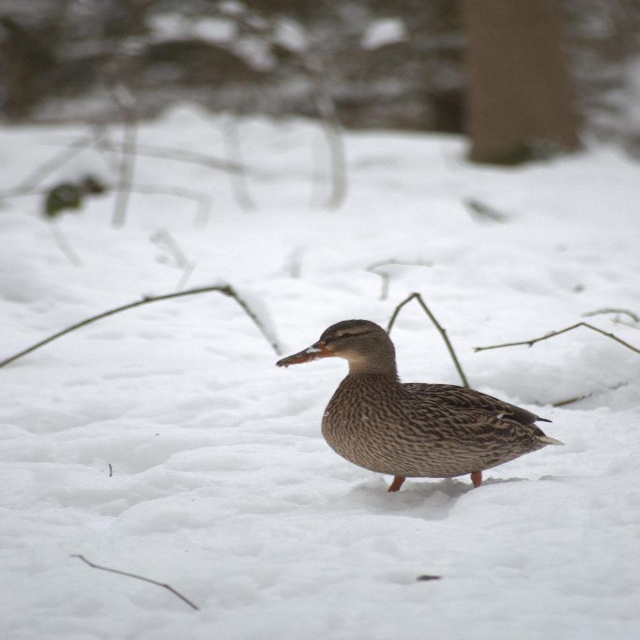Duck: (283, 314, 566, 505)
